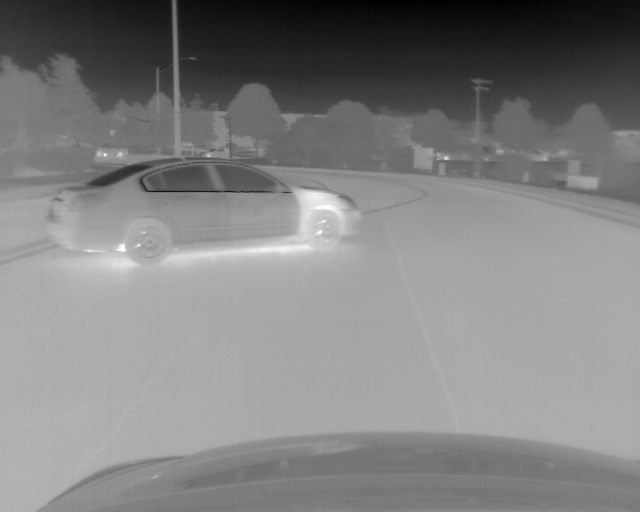car: (44, 154, 364, 267)
